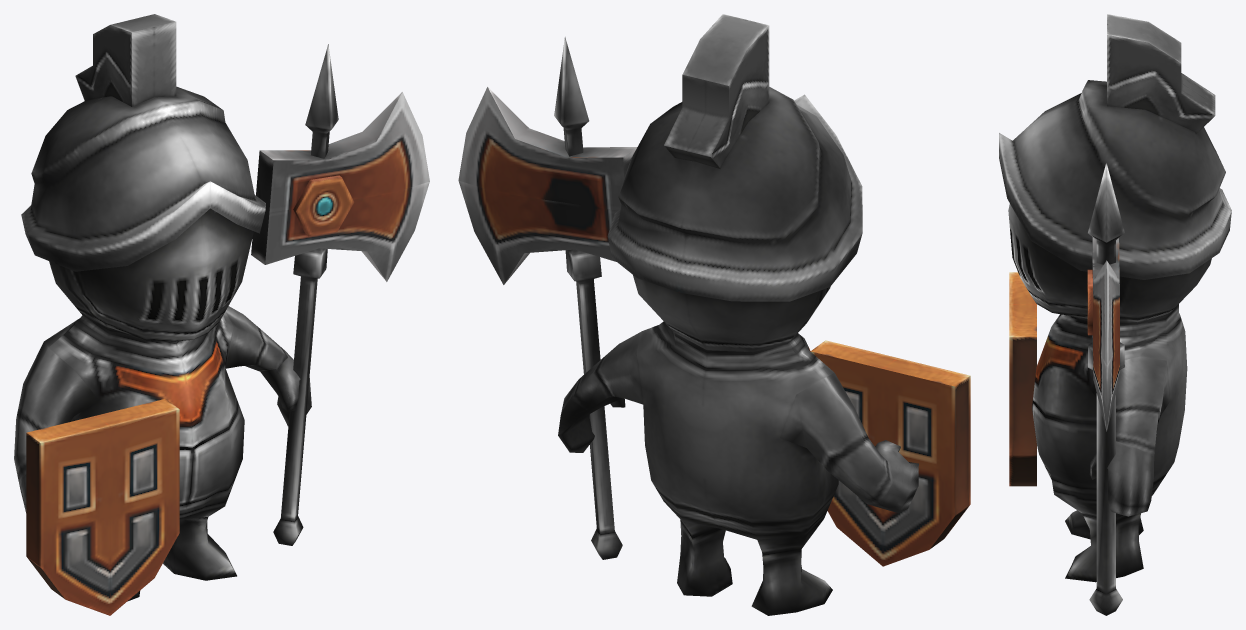
File: DiaoXiang01.FBX
3 renders of one model, left to right at view 1: azimuth 30°, elevation 25°; view 2: azimuth 150°, elevation 25°; view 3: azimuth 270°, elevation 25°, orthographic. The views are drawn at different scales.
Visible parts, largest first — view 1: DiaoXiang01; view 2: DiaoXiang01; view 3: DiaoXiang01.
Boxes of the visible parts, box(x1,y1,x2,y2) form: DiaoXiang01: box(14, 14, 429, 615); DiaoXiang01: box(458, 14, 970, 615); DiaoXiang01: box(999, 14, 1231, 615).
Bounding box in the file's own units: 60.86 × 72.41 × 29.07.
